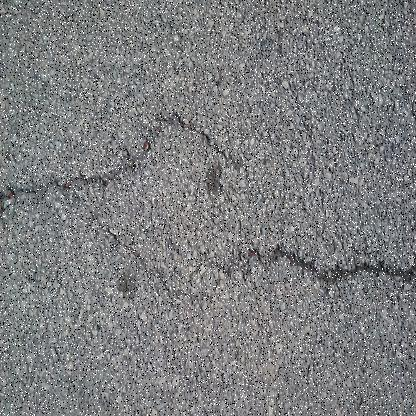Cracks: (0, 106, 249, 220), (229, 237, 416, 293)
